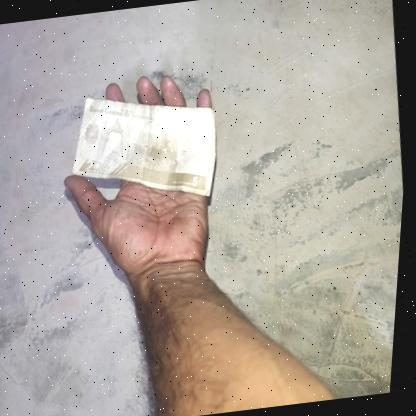five-back-vef: (63, 81, 229, 212)
